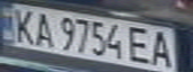4: (103, 21, 127, 60)
5: (87, 19, 109, 57)
7: (72, 16, 90, 54)
9: (54, 14, 78, 52)
A: (148, 28, 178, 69), (30, 9, 57, 48)
E: (124, 25, 154, 65)
K: (6, 6, 39, 45)
